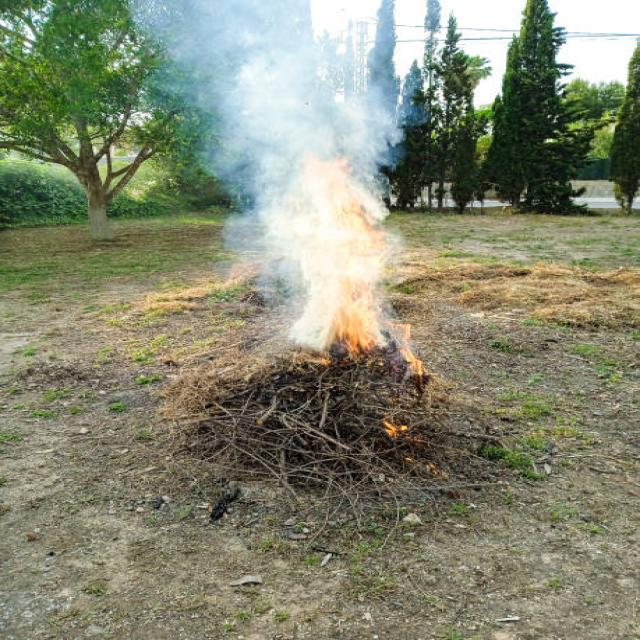Fire: (316, 289, 429, 378)
Smoke: (128, 0, 417, 289)
